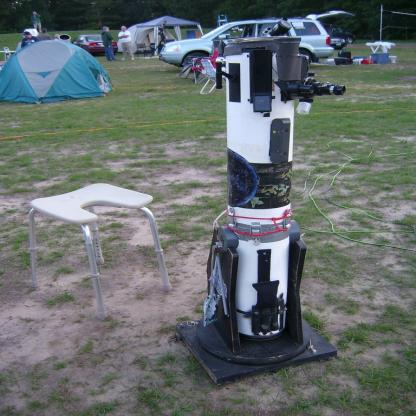Car: (159, 13, 355, 67)
